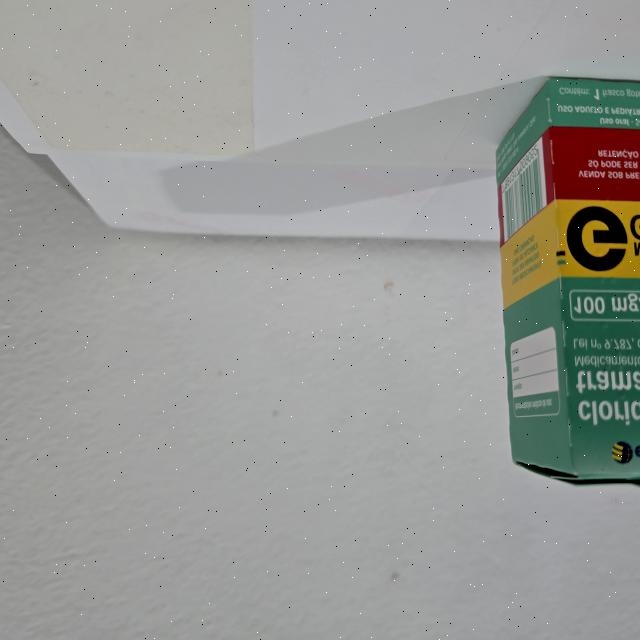tramadol: (493, 72, 640, 494)
